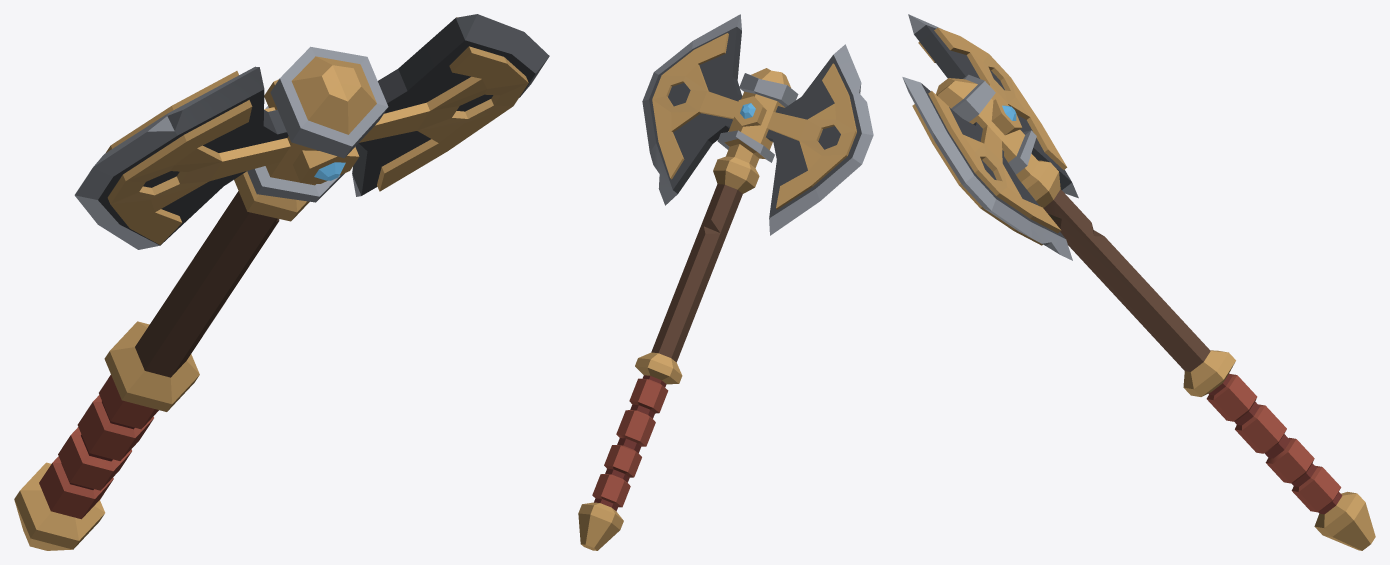
Rendered from dr-axe-large-01.glb.
3 renders of one model, left to right at view 1: azimuth 30°, elevation 25°; view 2: azimuth 150°, elevation 25°; view 3: azimuth 270°, elevation 25°, orthographic. The views are drawn at different scales.
Visible parts, largest first — view 1: dr-axe-large-01; view 2: dr-axe-large-01; view 3: dr-axe-large-01.
Boxes of the visible parts, left/top/right/bottom form: dr-axe-large-01: left=14, top=14, right=549, bottom=550; dr-axe-large-01: left=578, top=14, right=873, bottom=550; dr-axe-large-01: left=902, top=14, right=1375, bottom=550.
Bounding box in the file's own units: 0.5097 × 0.8519 × 0.7393.
Materials: 1 (1 with a texture image).
